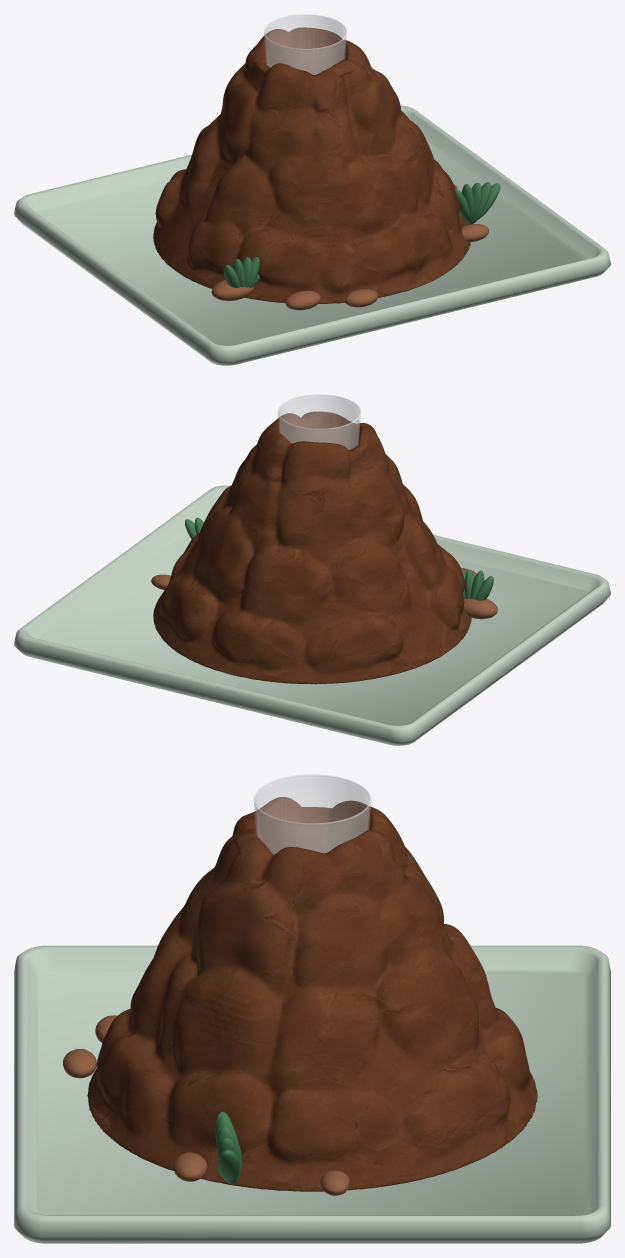
Rendered from volcano-approved-v3.glb.
3 views of the same model, one above another, from view 1: azimuth 30°, elevation 25°; view 2: azimuth 150°, elevation 25°; view 3: azimuth 270°, elevation 25° (orthographic). The views are drawn at different scales.
Parts seen in each view (by area): view 1: volcano-body, volcano-tray, cup-part-3, clay-detail-209, clay-detail-204; view 2: volcano-body, volcano-tray, cup-part-3, clay-detail-209, clay-detail-204; view 3: volcano-body, volcano-tray, cup-part-3, clay-detail-204, clay-detail-209.
Boxes of the visible parts, <box> form: volcano-body: <box>153,27,470,303</box>; volcano-tray: <box>14,105,610,365</box>; cup-part-3: <box>264,14,346,74</box>; clay-detail-209: <box>223,182,500,287</box>; clay-detail-204: <box>211,184,488,310</box>; volcano-body: <box>153,411,471,684</box>; volcano-tray: <box>14,485,610,745</box>; cup-part-3: <box>278,394,360,449</box>; clay-detail-209: <box>185,517,493,600</box>; clay-detail-204: <box>151,568,497,619</box>; volcano-body: <box>87,797,537,1191</box>; volcano-tray: <box>14,945,610,1243</box>; cup-part-3: <box>253,774,371,854</box>; clay-detail-204: <box>63,1015,349,1195</box>; clay-detail-209: <box>215,1111,241,1184</box>.
Size of the model in its own units: 4.95 by 2.67 by 4.52.
13 materials, 1 textured.
